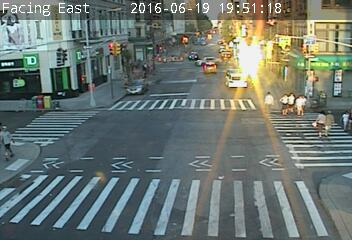neg: (212, 139, 238, 173), (115, 179, 138, 209), (171, 184, 190, 210), (137, 108, 155, 132), (175, 123, 192, 146), (296, 186, 313, 208), (86, 54, 102, 76), (92, 90, 108, 112), (198, 98, 214, 120), (76, 124, 92, 145), (32, 76, 47, 96), (142, 39, 156, 58), (184, 36, 198, 54), (271, 172, 285, 190), (176, 97, 189, 115), (59, 168, 72, 185), (222, 51, 234, 68), (246, 125, 257, 140), (180, 68, 191, 83), (244, 198, 254, 211)
pos: (319, 109, 341, 139), (308, 108, 329, 136), (291, 89, 310, 115), (258, 86, 277, 112), (282, 90, 299, 112), (279, 93, 295, 114), (337, 110, 351, 132)
